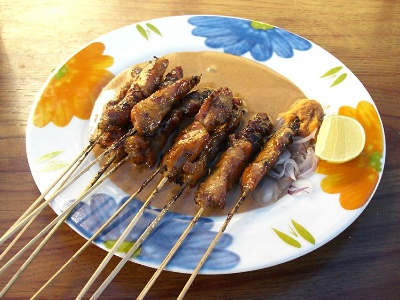sate: (15, 65, 280, 266)
